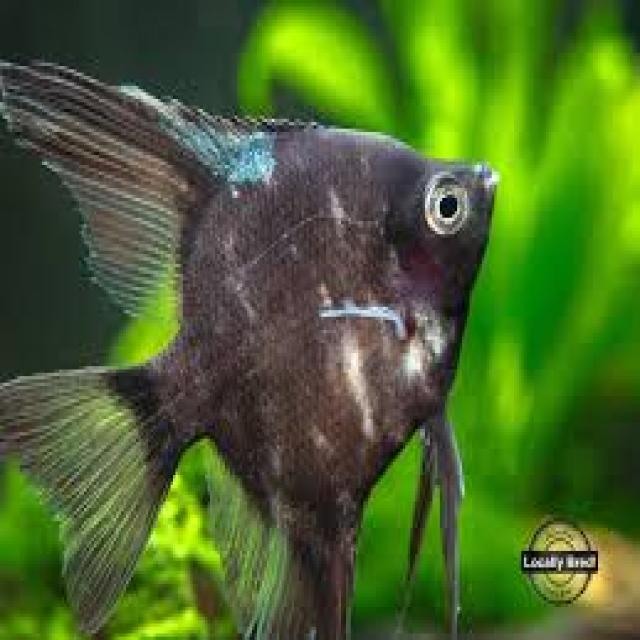AngelFish: (1, 53, 498, 640)
